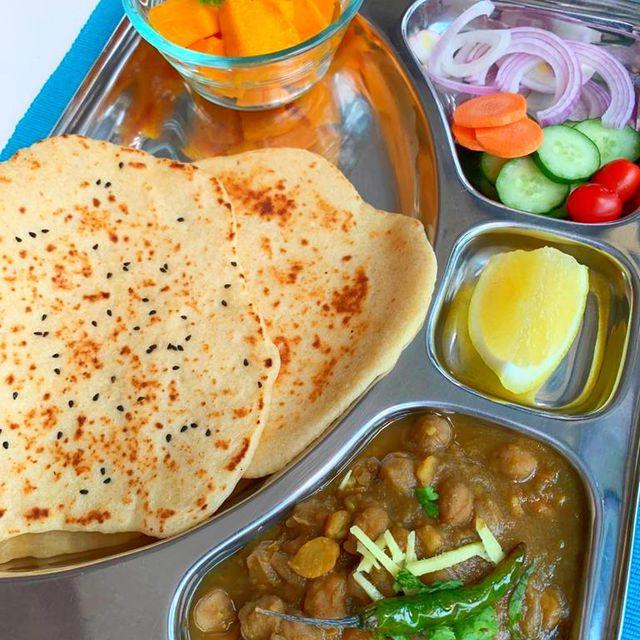Chole: (288, 407, 518, 599)
